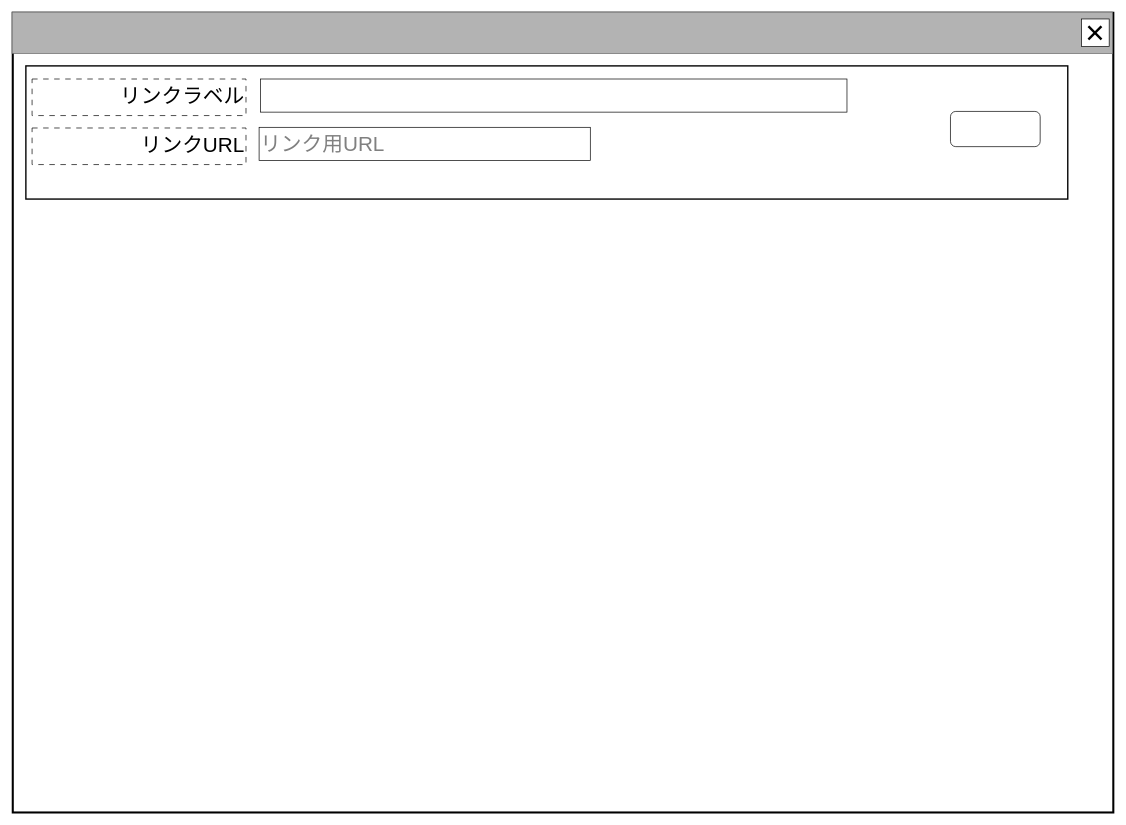
This 1126x825 diagram has some shape labels left out. Each missing label, with the centre of its shape:
削除: pixel 995 129
政治資金徹底調査の会'24「ちゃらんぽらん政治団体」: pixel 553 95
